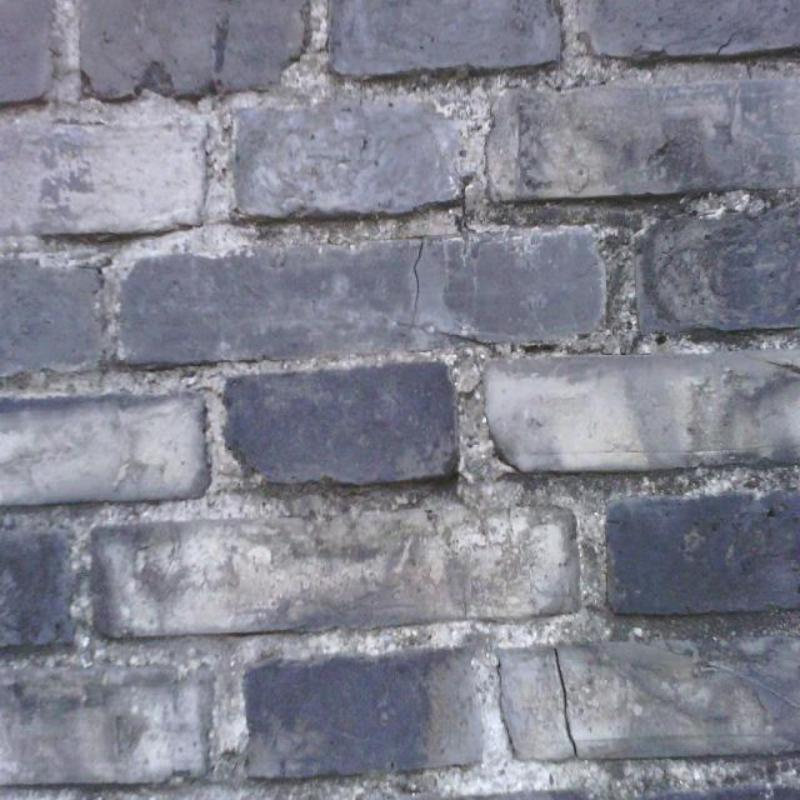pothole: (554, 648, 577, 757), (411, 243, 423, 324)
